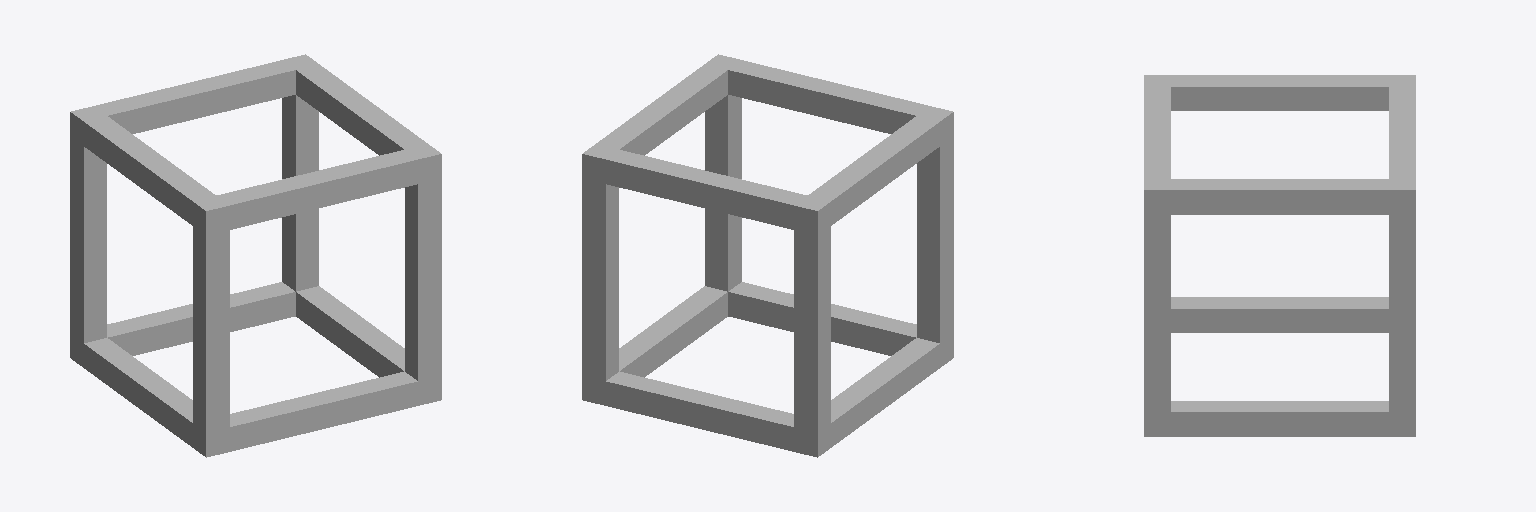
3 renders of one model, left to right at view 1: azimuth 30°, elevation 25°; view 2: azimuth 150°, elevation 25°; view 3: azimuth 270°, elevation 25°, orthographic.
Visible parts, largest first — view 1: Scaffold_Cube.002; view 2: Scaffold_Cube.002; view 3: Scaffold_Cube.002.
Boxes of the visible parts, x1,y1,x2,y2 form: Scaffold_Cube.002: [70, 54, 441, 457]; Scaffold_Cube.002: [582, 54, 953, 457]; Scaffold_Cube.002: [1144, 75, 1415, 436].
Size of the model in its own units: 1 by 1 by 1.
1 materials, 1 textured.